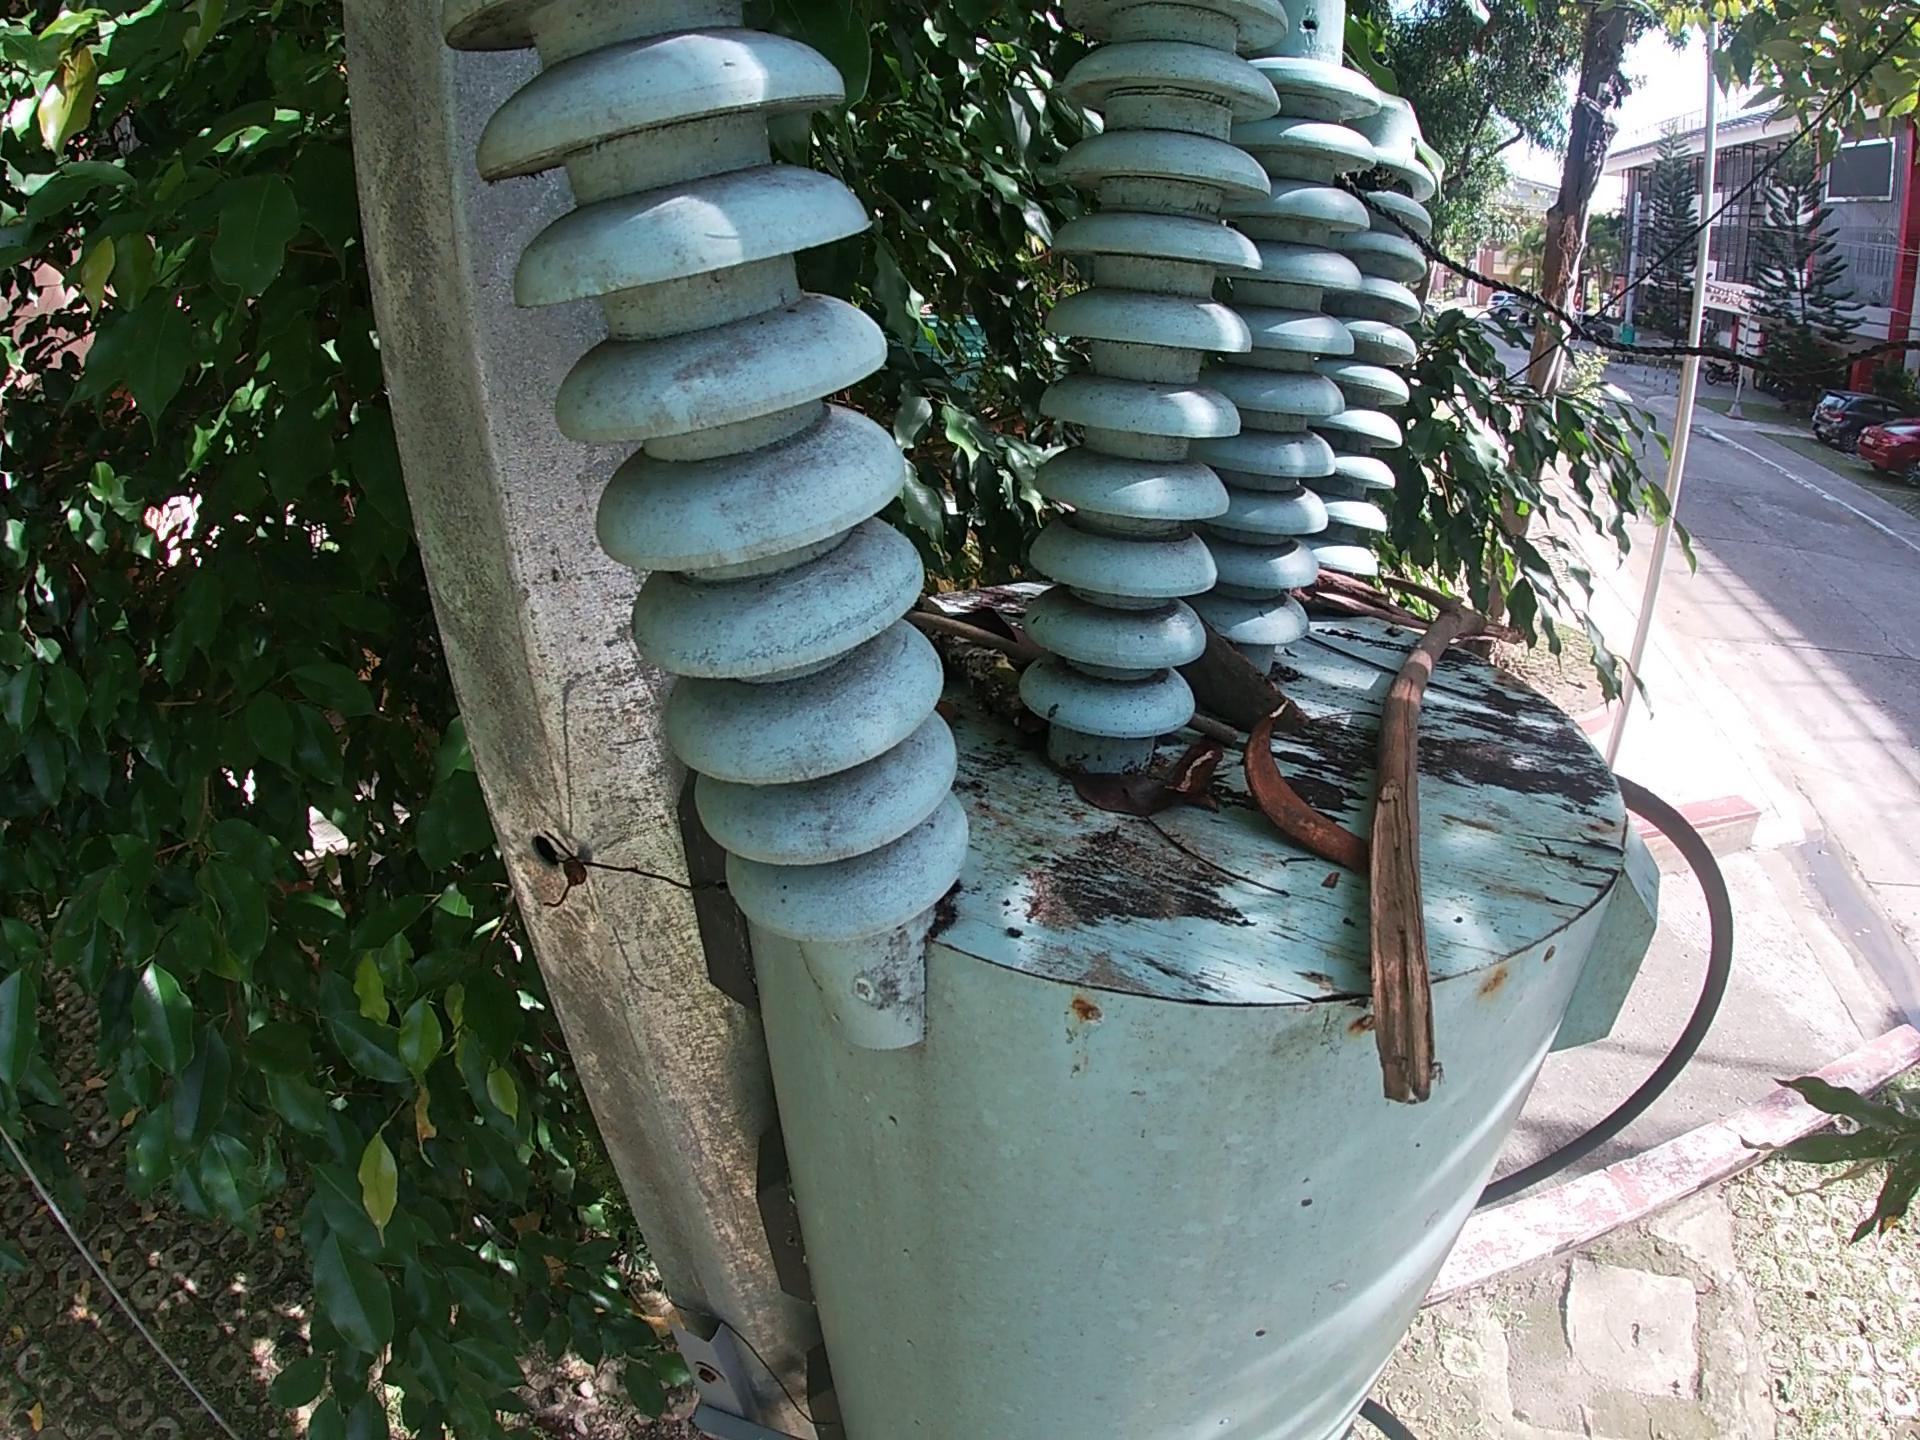leaf: (1055, 764, 1147, 814)
mahogany fruit: (1252, 711, 1373, 864), (1184, 634, 1333, 743)
tree branch: (1352, 585, 1547, 1172), (1302, 634, 1501, 712), (1134, 815, 1297, 906), (949, 604, 1034, 722), (1305, 572, 1421, 635), (918, 611, 1030, 655), (1163, 759, 1220, 799), (1191, 712, 1241, 753)
